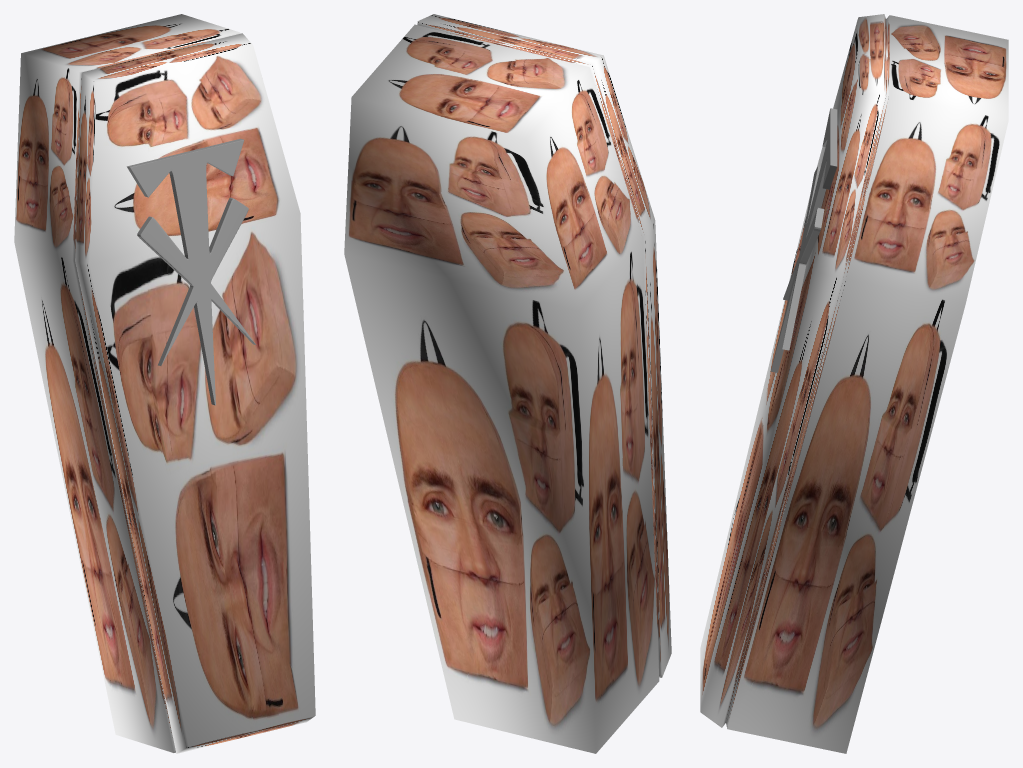
The picture shows the model from 3 angles, left to right: view 1: azimuth 30°, elevation 25°; view 2: azimuth 150°, elevation 25°; view 3: azimuth 270°, elevation 25°; orthographic projection. The views are drawn at different scales.
Parts seen in each view (by area): view 1: coffin_Cube.002_Material.003, symbol_Cube.001; view 2: coffin_Cube.002_Material.003; view 3: coffin_Cube.002_Material.003, symbol_Cube.001.
Boxes of the visible parts, <box> form: coffin_Cube.002_Material.003: <box>14,14,315,753</box>; symbol_Cube.001: <box>127,138,255,405</box>; coffin_Cube.002_Material.003: <box>344,14,671,753</box>; coffin_Cube.002_Material.003: <box>700,14,1008,753</box>; symbol_Cube.001: <box>771,108,837,372</box>.
Bounding box in the file's own units: 2.69 × 7.75 × 3.25.
Materials: 2 (1 with a texture image).
